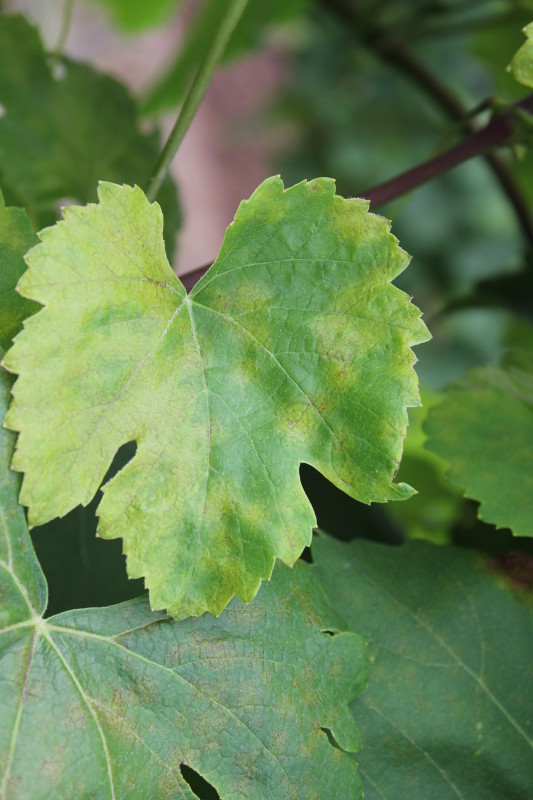downy: (21, 192, 413, 531), (129, 531, 263, 599), (51, 678, 154, 746), (161, 636, 278, 692), (261, 732, 327, 800), (289, 656, 344, 716), (178, 709, 244, 754)
